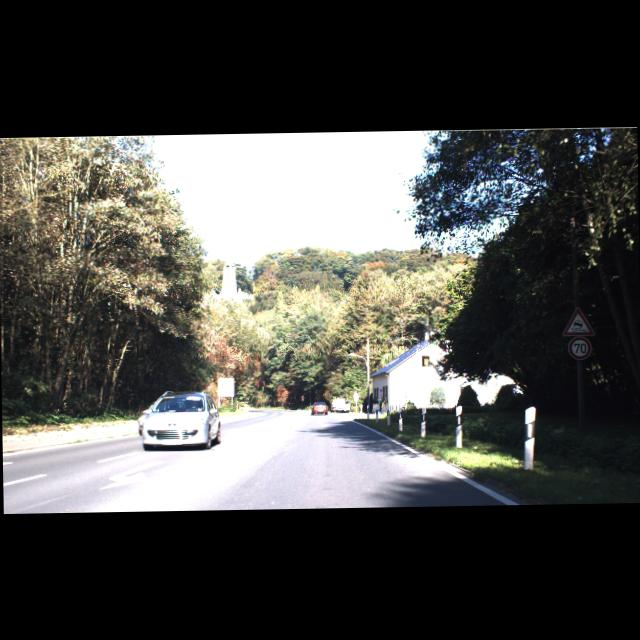danger: (560, 305, 596, 336)
prohibitory: (568, 336, 592, 361)
